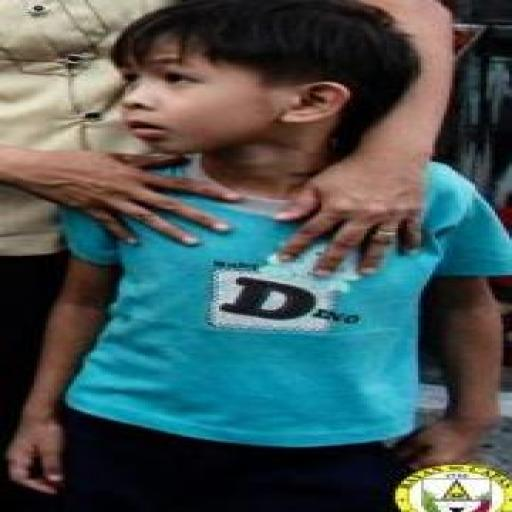person: (9, 0, 511, 511), (0, 0, 227, 451)
